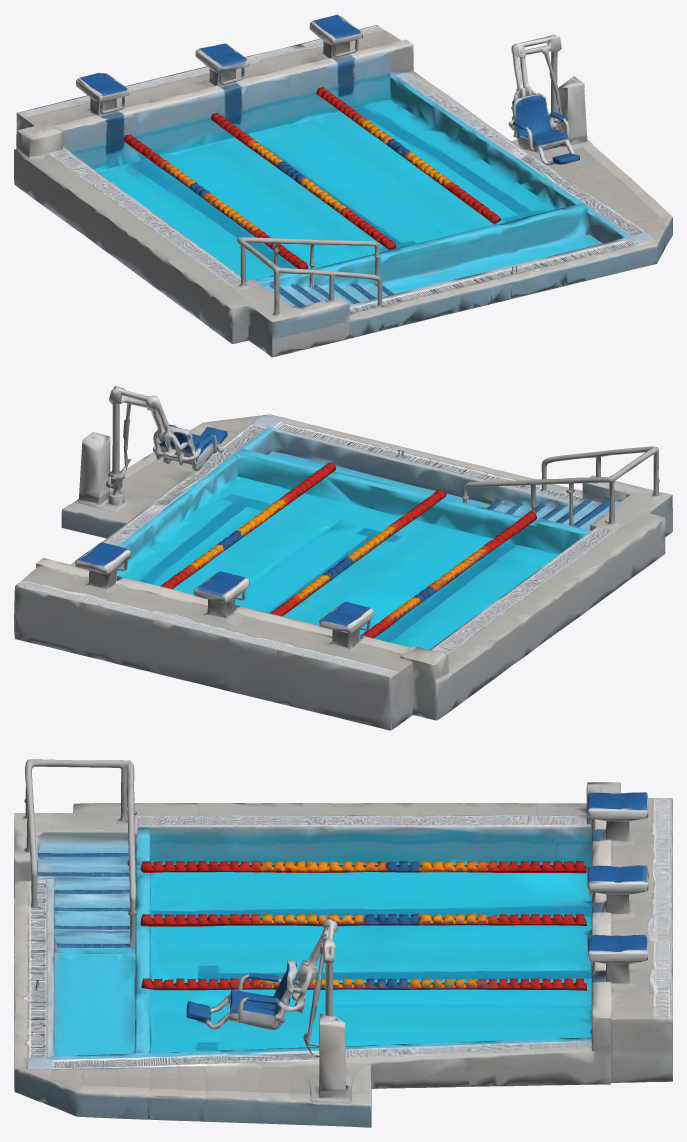
The model's file is pool.glb.
The picture shows the model from 3 angles, top to bottom: view 1: azimuth 30°, elevation 25°; view 2: azimuth 150°, elevation 25°; view 3: azimuth 270°, elevation 25°; orthographic projection. The views are drawn at different scales.
Parts seen in each view (by area): view 1: tripo_node_e9b25677-1375-4fbf-9522-dacb47f4bc9f; view 2: tripo_node_e9b25677-1375-4fbf-9522-dacb47f4bc9f; view 3: tripo_node_e9b25677-1375-4fbf-9522-dacb47f4bc9f.
Boxes of the visible parts, x1,y1,x2,y2 form: tripo_node_e9b25677-1375-4fbf-9522-dacb47f4bc9f: (14,14,672,357); tripo_node_e9b25677-1375-4fbf-9522-dacb47f4bc9f: (14,386,672,730); tripo_node_e9b25677-1375-4fbf-9522-dacb47f4bc9f: (14,759,672,1127).
Bounding box in the file's own units: 1 × 0.2798 × 0.9911.
1 material, 1 textured.
